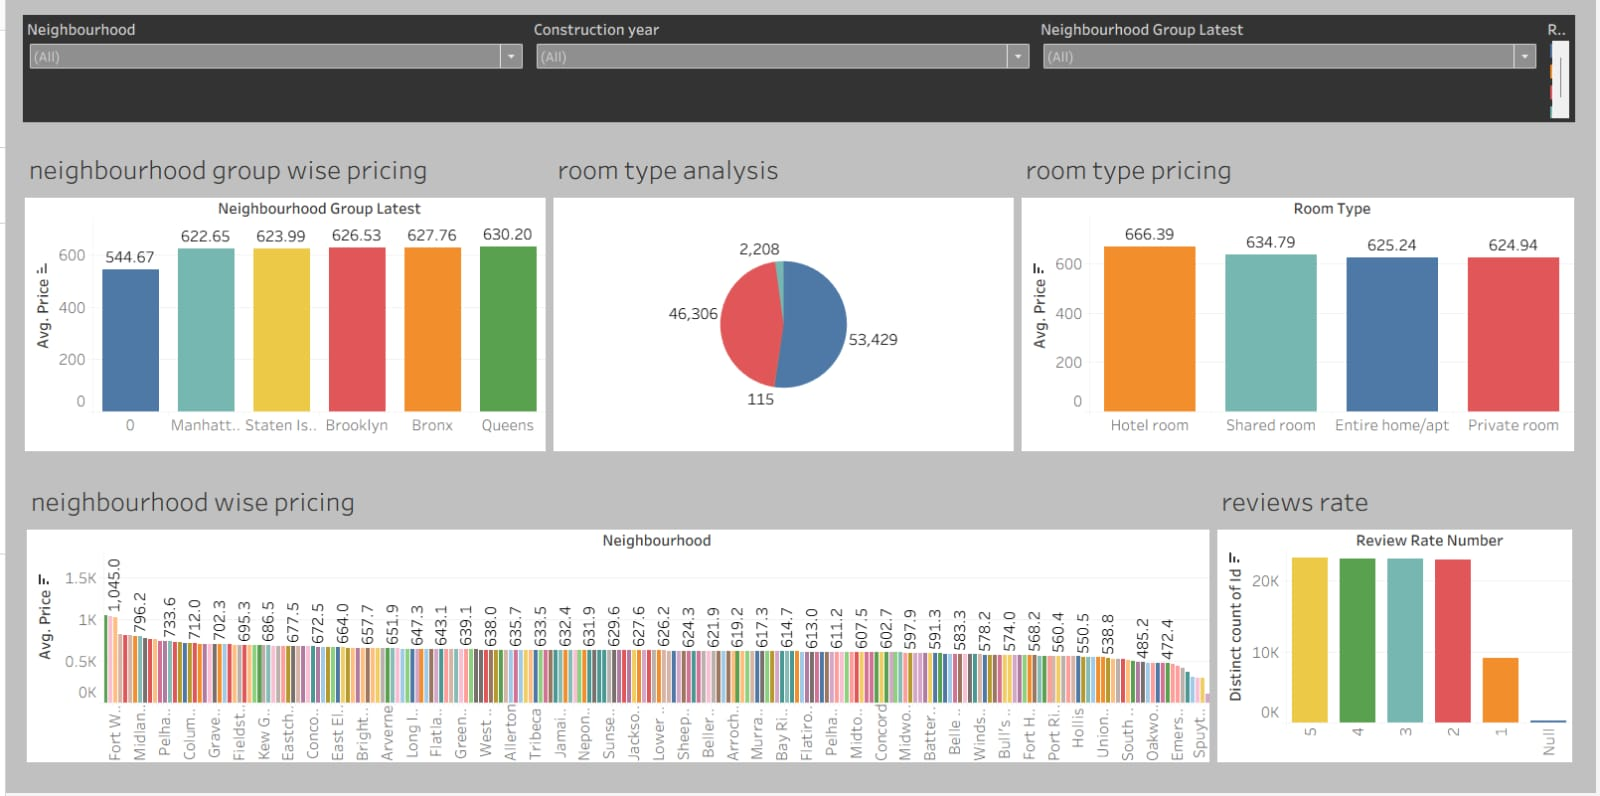

This screenshot's page, from the dashboard's own definition file:
{"tool":"tableau","page":{"name":"Dashboard 1","canvas":[1600,800],"ordinal":0},"visuals":[{"type":"filter","title":"neighbourhood group wise pricing","param":"[federated.1y3iah31fzdfvy1e27c6h0xljcpp].[none:neighbourhood:nk]","box":[17,17,510,108]},{"type":"filter","title":"neighbourhood group wise pricing","param":"[federated.1y3iah31fzdfvy1e27c6h0xljcpp].[none:Construction_year:nk]","box":[527,17,510,108]},{"type":"filter","title":"neighbourhood group wise pricing","param":"[federated.1y3iah31fzdfvy1e27c6h0xljcpp].[none:neighbourhood_group_latest:nk]","box":[1037,17,510,108]},{"type":"legend","title":"room type pricing","param":"[federated.1y3iah31fzdfvy1e27c6h0xljcpp].[none:room_type:nk]","box":[1547,17,32,108]},{"type":"worksheet","title":"neighbourhood group wise pricing","mark":"Automatic","rows":["Price"],"cols":["neighbourhood_group_latest"],"box":[15,147,532,313]},{"type":"worksheet","title":"room type analysis","mark":"Pie","box":[547,147,471,313]},{"type":"worksheet","title":"room type pricing","mark":"Automatic","rows":["Price"],"cols":["room_type"],"box":[1018,147,564,313]},{"type":"worksheet","title":"neighbourhood wise pricing","mark":"Automatic","rows":["Price"],"cols":["neighbourhood"],"box":[17,481,1198,292]},{"type":"worksheet","title":"reviews rate ","mark":"Automatic","rows":["id"],"cols":["review_rate_number"],"box":[1215,481,365,292]}]}

Visuals, with their boxes in screenshot pixels (x1, y1, x2, y2), scaled from the page's 1600x800 canvas onto the 1600x796 screenshot:
"neighbourhood group wise pricing" filter: Rect(17, 17, 527, 124)
"neighbourhood group wise pricing" filter: Rect(527, 17, 1037, 124)
"neighbourhood group wise pricing" filter: Rect(1037, 17, 1547, 124)
"room type pricing" legend: Rect(1547, 17, 1579, 124)
"neighbourhood group wise pricing" worksheet: Rect(15, 146, 547, 458)
"room type analysis" worksheet (Pie marks): Rect(547, 146, 1018, 458)
"room type pricing" worksheet: Rect(1018, 146, 1582, 458)
"neighbourhood wise pricing" worksheet: Rect(17, 479, 1215, 769)
"reviews rate " worksheet: Rect(1215, 479, 1580, 769)
